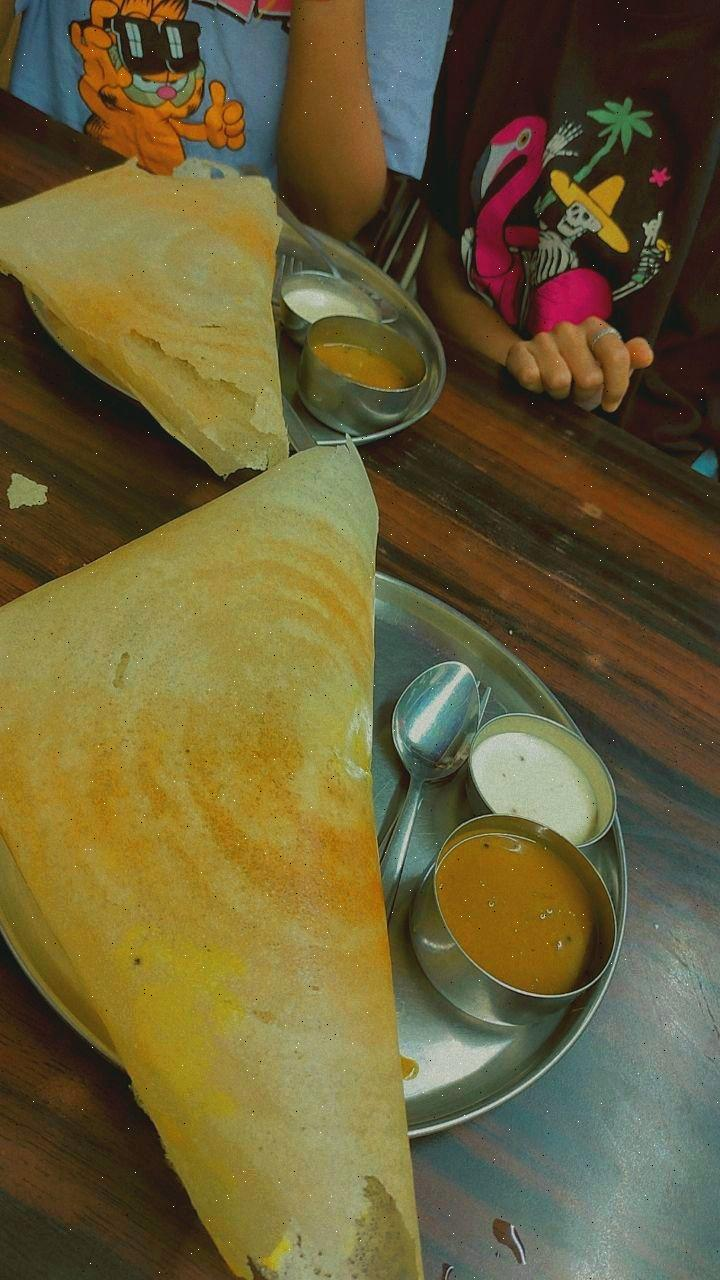dosa: (4, 498, 435, 1280), (12, 150, 302, 499)
